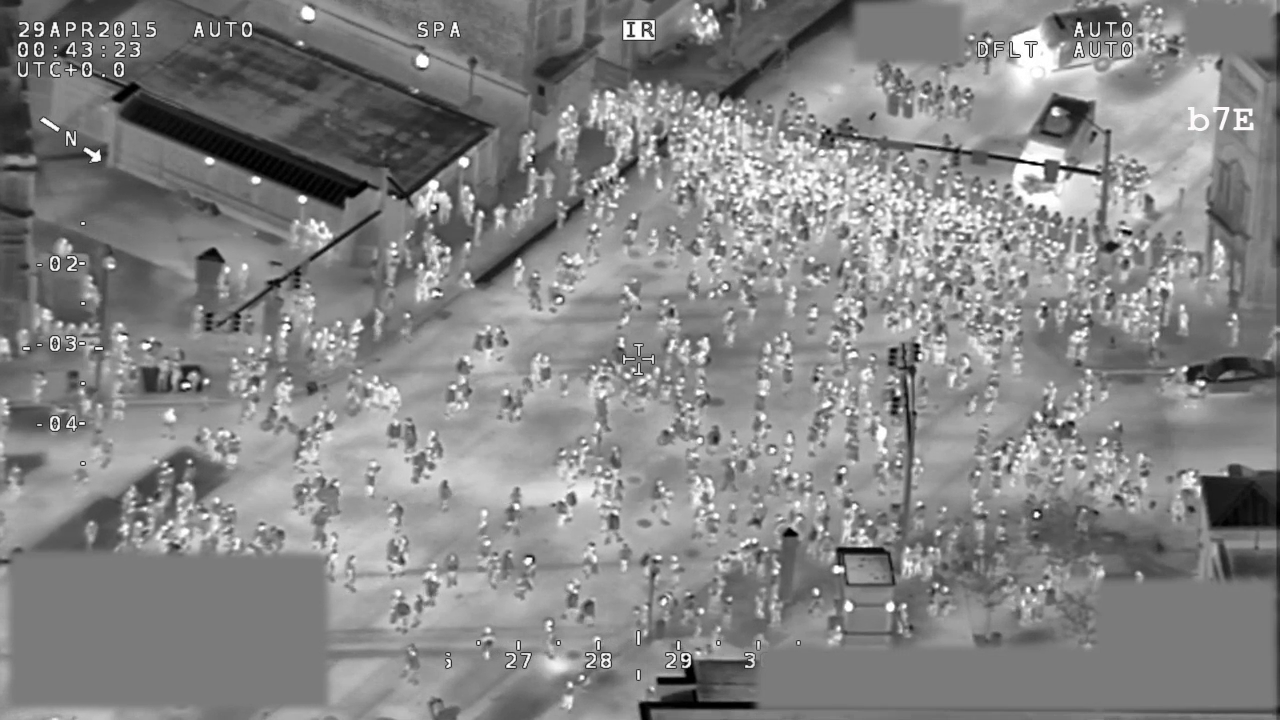vehicle: (1004, 1, 1130, 86), (1005, 93, 1101, 202), (1177, 352, 1280, 403)
